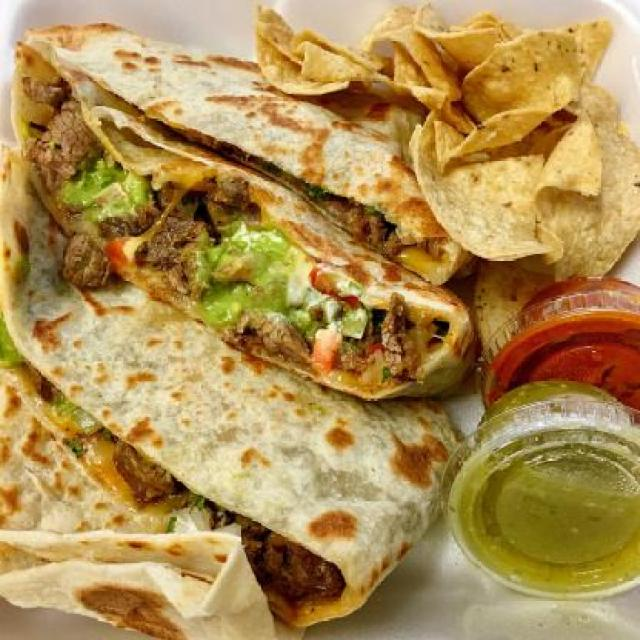chicken quesadilla: (0, 7, 459, 640)
guacamole: (457, 388, 640, 597)
nachos: (243, 0, 639, 288)
